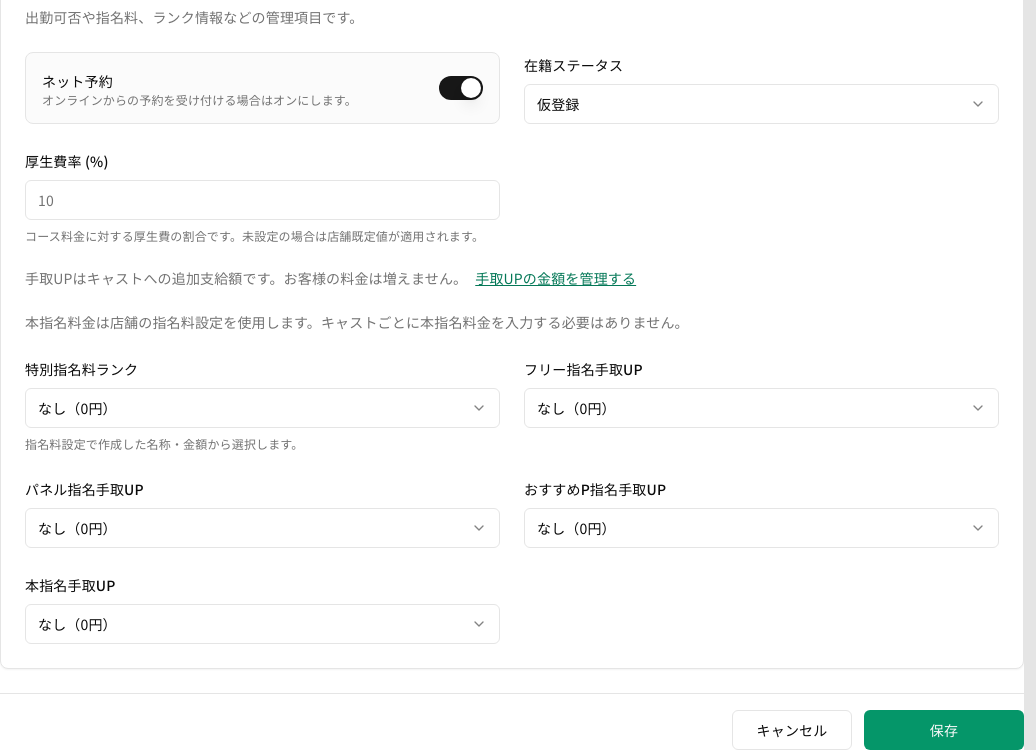
CastForm pricing scope › selects free, panel, recommended, and repeat take-home bonuses separately
The width and height of the screenshot is (1036, 750).
(page scrolled)
Click the dropdown named "フリー指名手取UP" at coordinates (576, 408), box [524,388,999,428]
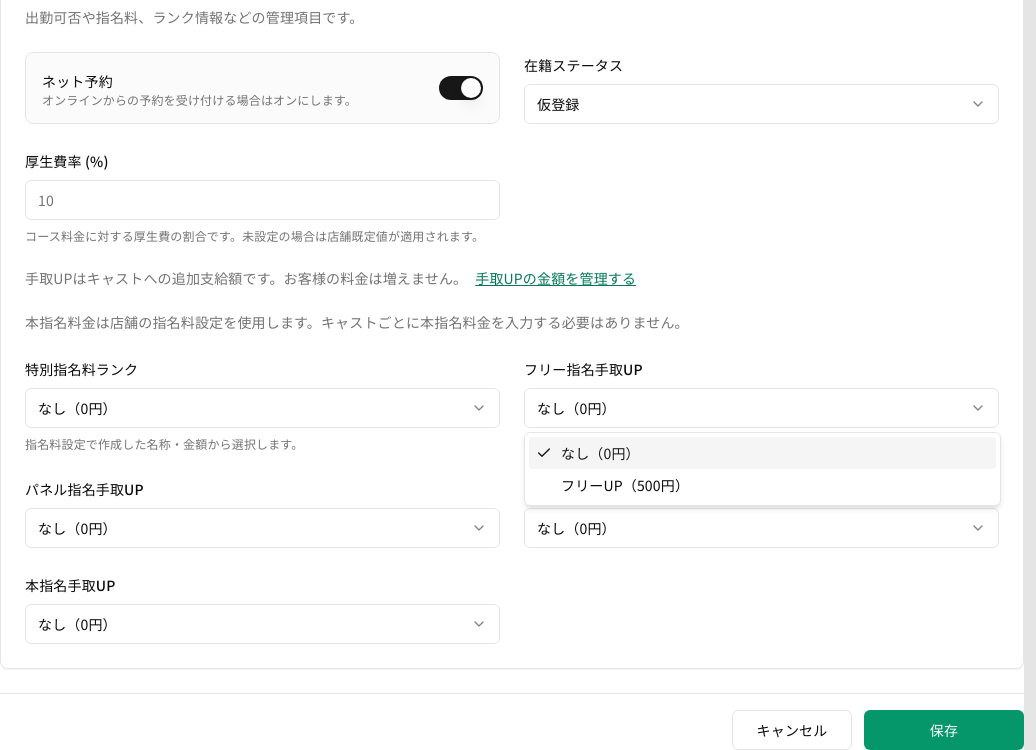
Now the option "フリーUP（500円）" is shown, box [561,475,689,495]
Click the dropdown named "パネル指名手取UP" at coordinates (77, 528), box [25,508,500,548]
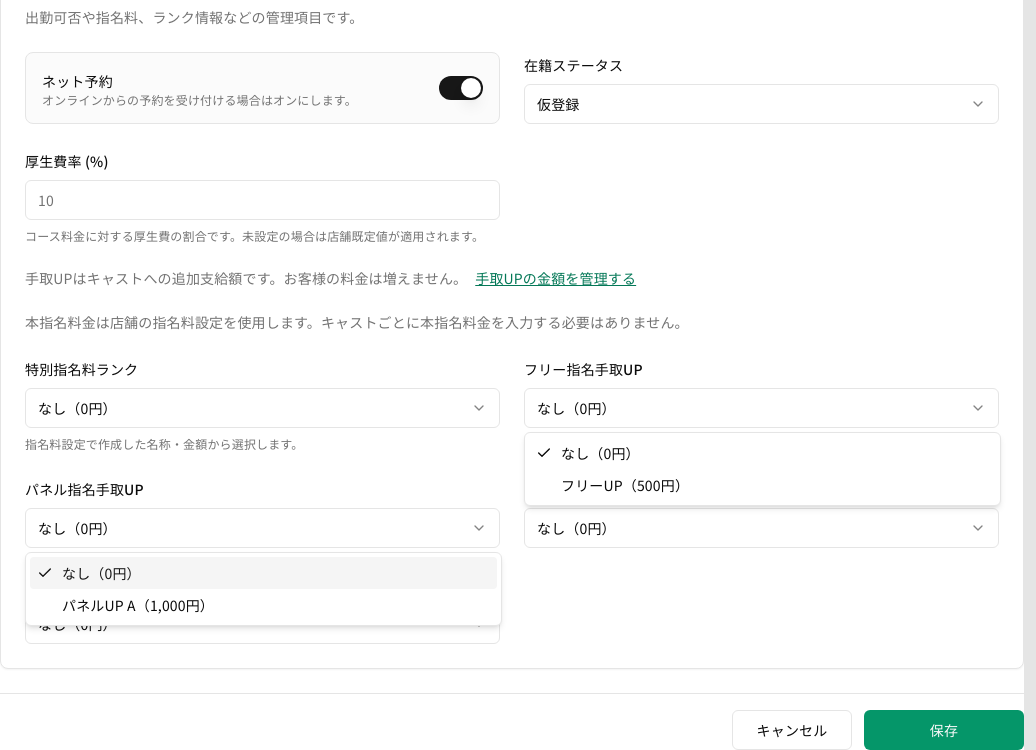
Now the option "パネルUP A（1,000円）" is shown, box [62,595,214,615]
Click the dropdown named "おすすめP指名手取UP" at coordinates (576, 528), box [524,508,999,548]
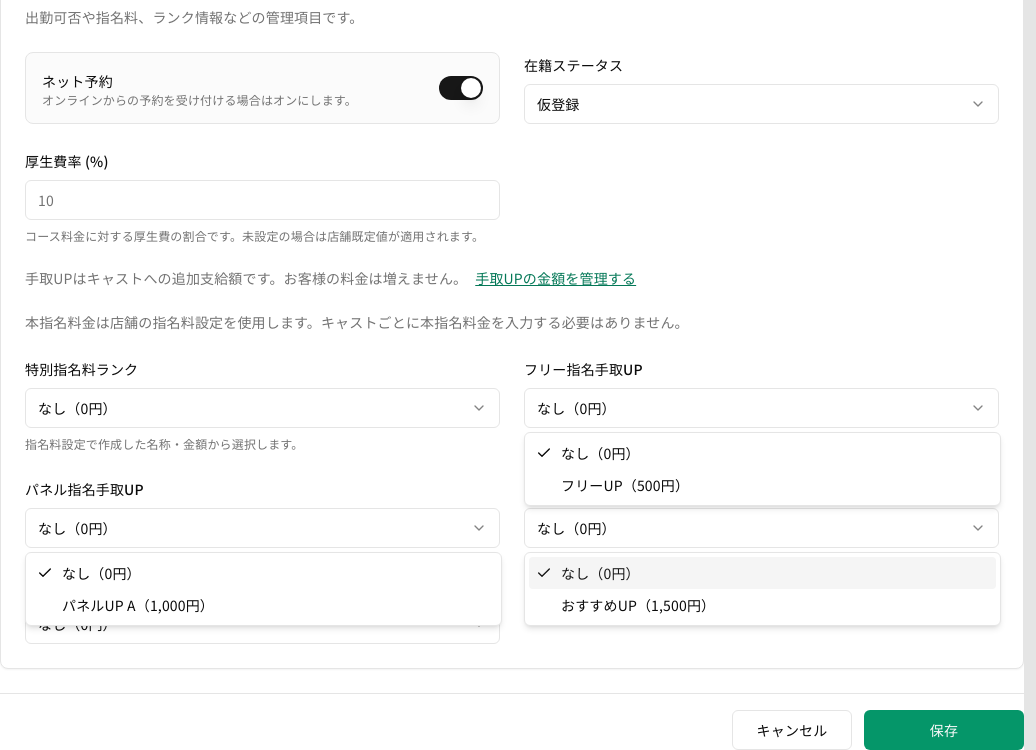
Now the option "おすすめUP（1,500円）" is shown, box [561,595,715,615]
Click the dropdown named "本指名手取UP" at coordinates (77, 624), box [25,604,500,644]
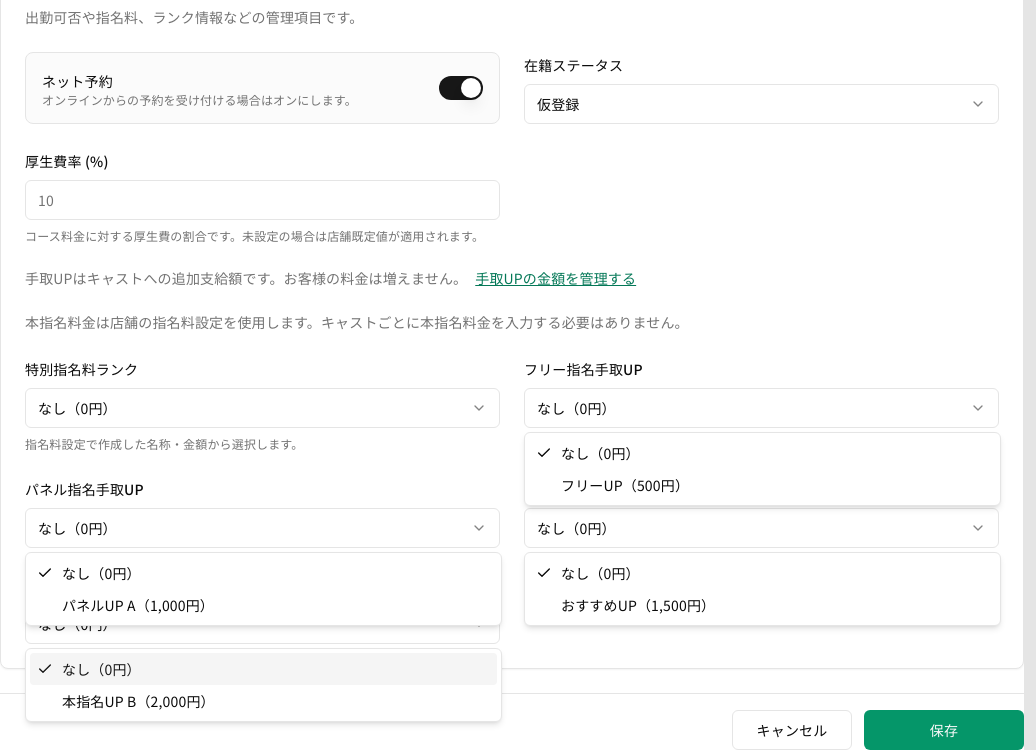
Now the option "本指名UP B（2,000円）" is shown, box [62,691,215,711]
